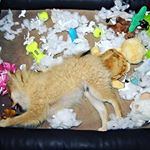puppy: (1, 51, 125, 129)
